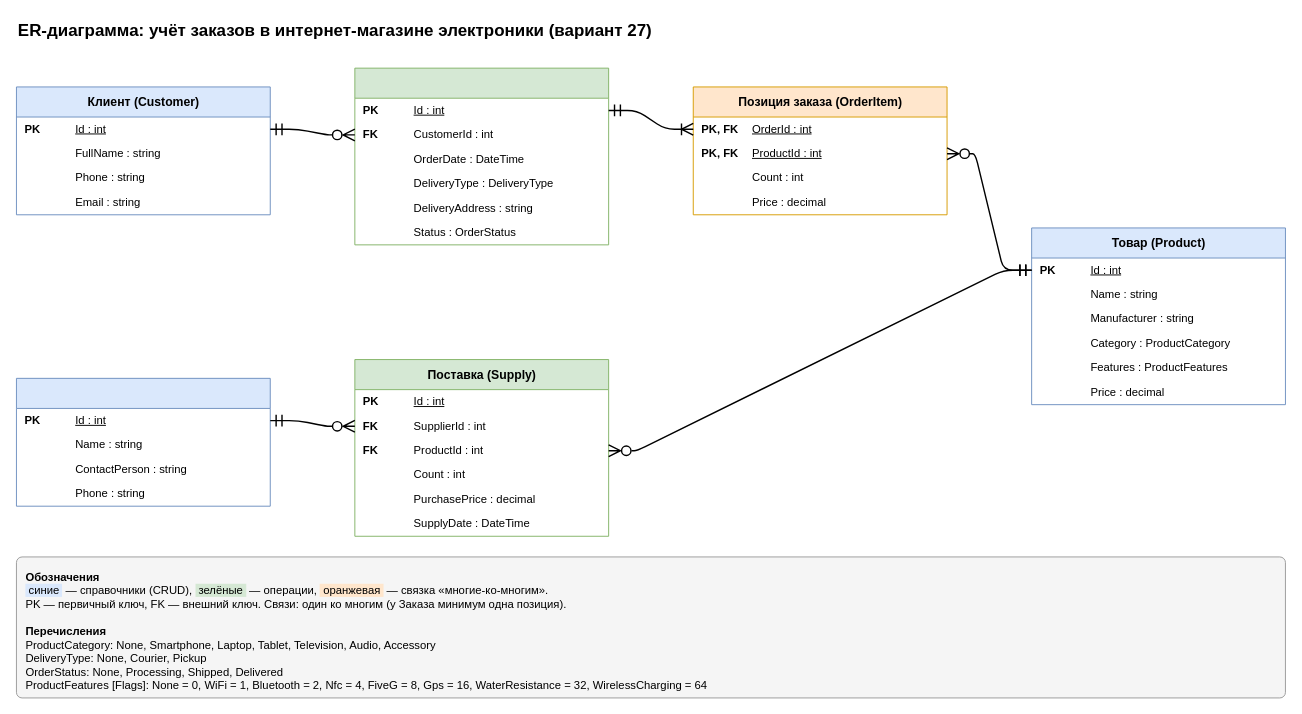
Image size: 1302x714. Some labels were removed from this diagram. Each missing label, with the box of its shape:
Заказ (Order): (354, 67, 609, 245)
Поставщик (Supplier): (16, 377, 270, 506)
